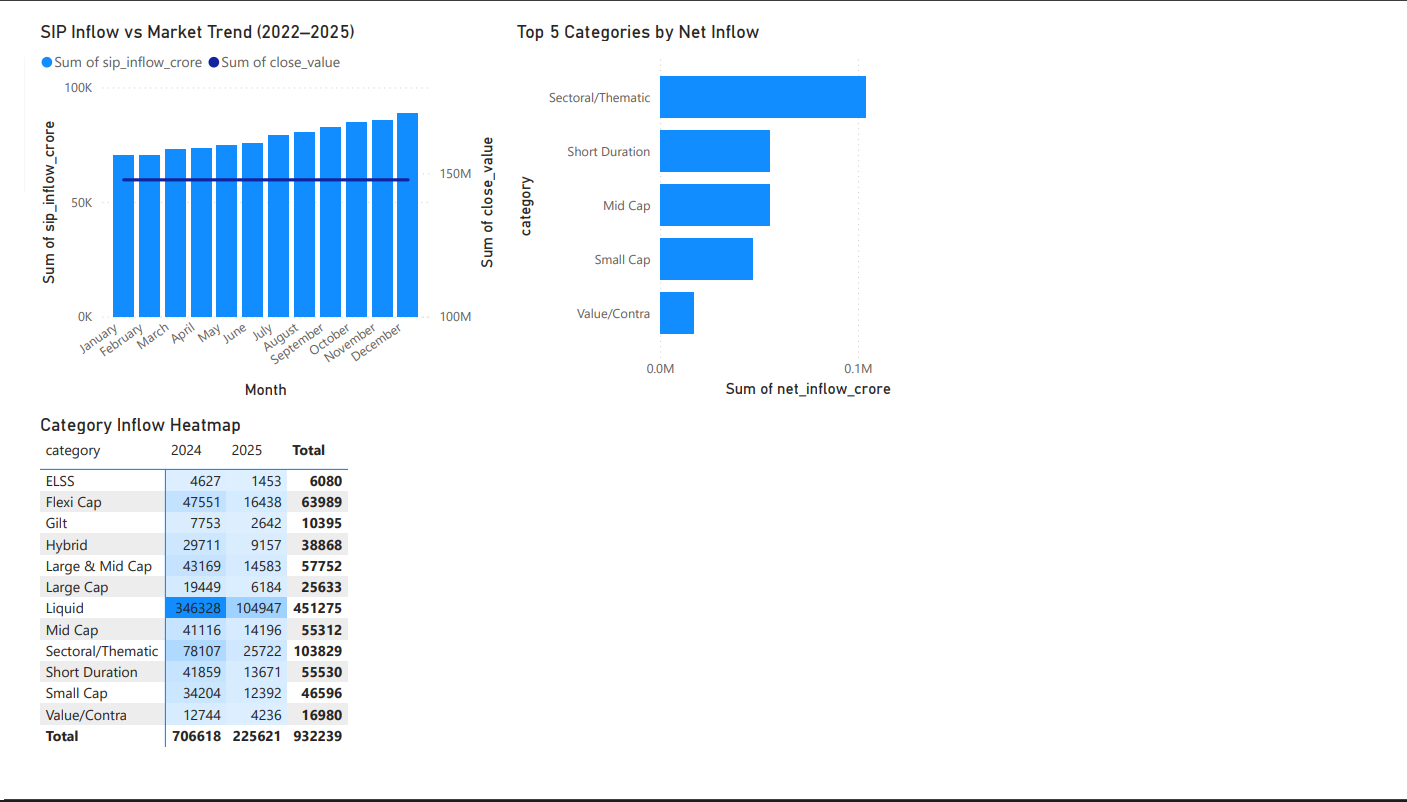

The page's visual inventory and layout, read from the dashboard file:
{"tool":"powerbi","page":{"name":"SIP & Market Trends","canvas":[1280,720],"ordinal":3},"visuals":[{"type":"lineClusteredColumnComboChart","title":"SIP Inflow vs Market Trend (2022–2025)","fields":{"Category":["04_monthly_sip_inflows.month.Variation.Date Hierarchy.Month"],"Y":["Sum(04_monthly_sip_inflows.sip_inflow_crore)"],"Y2":["Sum(10_benchmark_indices.close_value)"]},"box":[9.9,0,437.9,360],"z":0},{"type":"pivotTable","title":"Category Inflow Heatmap","fields":{"Columns":["05_category_inflows.month.Variation.Date Hierarchy.Year","05_category_inflows.month.Variation.Date Hierarchy.Quarter","05_category_inflows.month.Variation.Date Hierarchy.Month","05_category_inflows.month.Variation.Date Hierarchy.Day"],"Rows":["05_category_inflows.category"],"Values":["Sum(05_category_inflows.net_inflow_crore)"]},"box":[10,370,438,350],"z":1000},{"type":"clusteredBarChart","title":"Top 5 Categories by Net Inflow","fields":{"Category":["05_category_inflows.category"],"Y":["Sum(05_category_inflows.net_inflow_crore)"]},"box":[458,0,438,360],"z":2000}]}

Visuals, with their boxes in screenshot pixels (x1, y1, x2, y2), scaled from the page's 1280x720 canvas onto the 1407x802 screenshot:
"SIP Inflow vs Market Trend (2022–2025)" lineClusteredColumnComboChart: locate(11, 0, 492, 401)
"Category Inflow Heatmap" pivotTable: locate(11, 412, 492, 801)
"Top 5 Categories by Net Inflow" clusteredBarChart: locate(503, 0, 985, 401)
